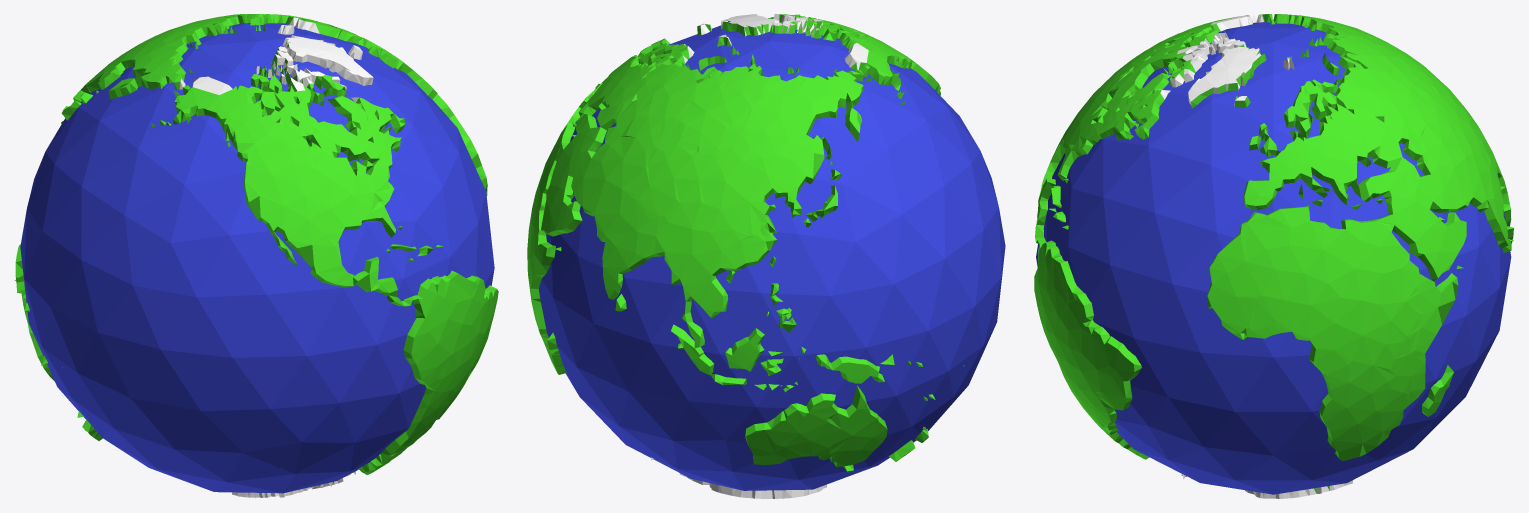
Rendered from Globe.glb.
3 views of the same model, side by side, from view 1: azimuth 30°, elevation 25°; view 2: azimuth 150°, elevation 25°; view 3: azimuth 270°, elevation 25° (orthographic).
Parts seen in each view (by area): view 1: Icosphere, Sphere.001; view 2: Icosphere, Sphere.001; view 3: Sphere.001, Icosphere.
Part boxes in pixels (bbox=[...]): Icosphere: bbox=[20, 23, 494, 493]; Sphere.001: bbox=[14, 14, 498, 497]; Icosphere: bbox=[538, 25, 1005, 490]; Sphere.001: bbox=[527, 14, 964, 498]; Sphere.001: bbox=[1034, 14, 1513, 498]; Icosphere: bbox=[1036, 22, 1511, 494].
Bounding box in the file's own units: 2.02 × 2.04 × 2.02.
